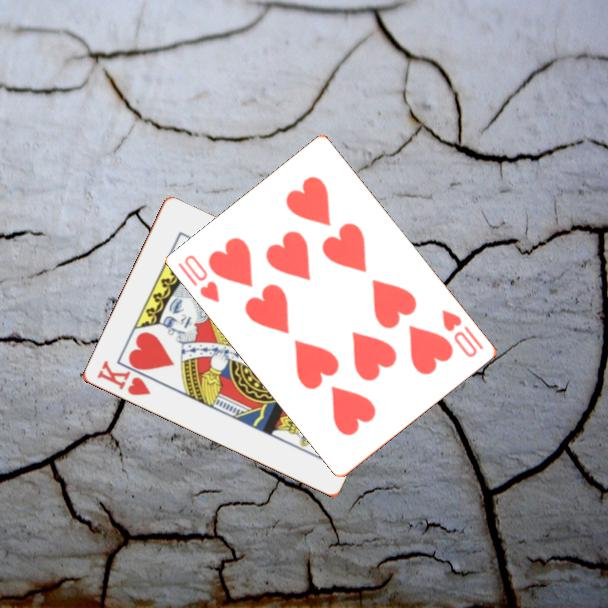h10: (438, 306, 487, 360), (175, 251, 223, 306)
h13: (93, 357, 154, 399)
